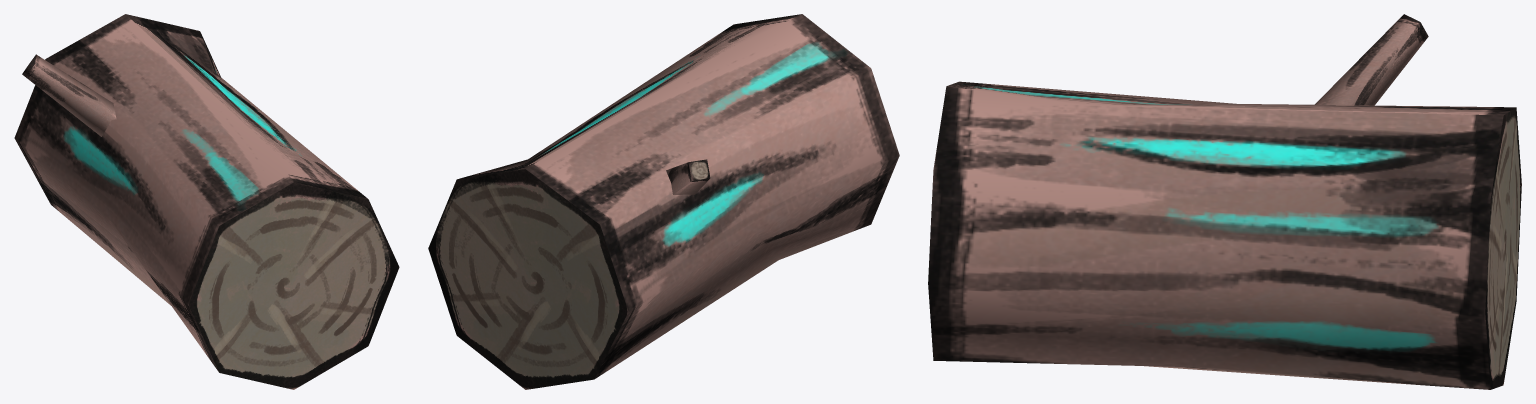
File: GAM_LootWood.FBX
3 views of the same model, side by side, from view 1: azimuth 30°, elevation 25°; view 2: azimuth 150°, elevation 25°; view 3: azimuth 270°, elevation 25° (orthographic). The views are drawn at different scales.
Visible parts, largest first — view 1: GAM_LootWood; view 2: GAM_LootWood; view 3: GAM_LootWood.
Part boxes in pixels (box(x1,y1,x2,y2)): GAM_LootWood: box(14, 14, 399, 389); GAM_LootWood: box(428, 14, 899, 389); GAM_LootWood: box(928, 14, 1521, 389).
Size of the model in its own units: 42.82 by 37.23 by 69.74.
Materials: 1 (1 with a texture image).
